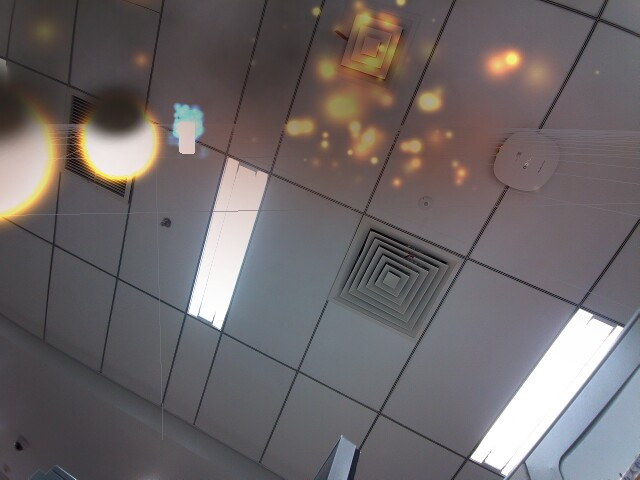fire: (0, 77, 60, 226), (78, 98, 163, 183)
